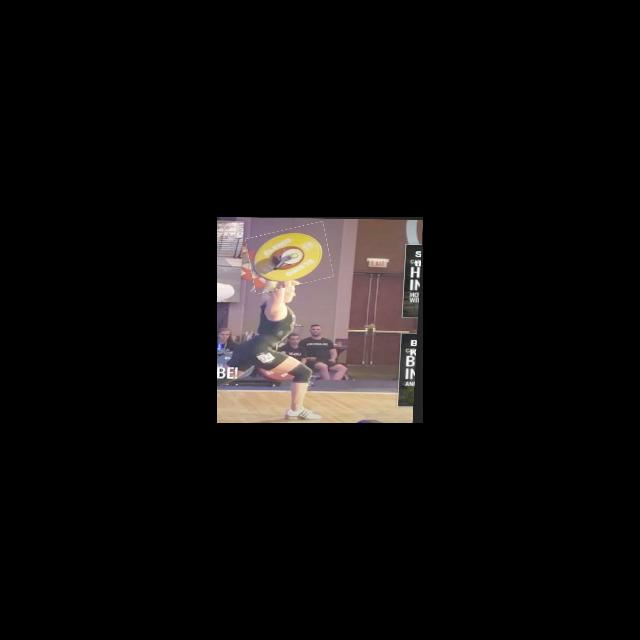barbell: (246, 224, 333, 291)
